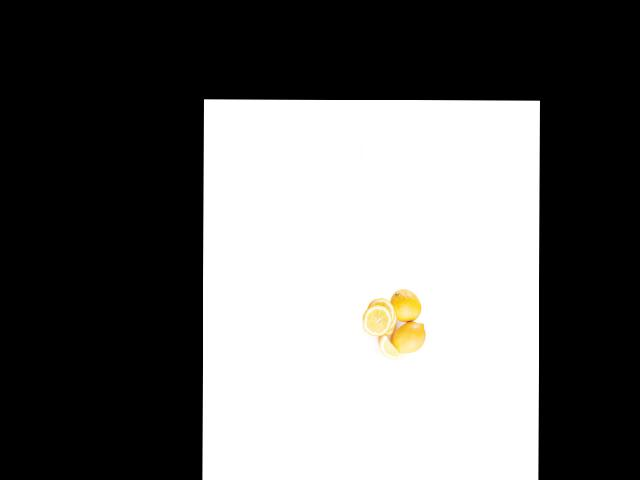lemon: (391, 290, 421, 325)
